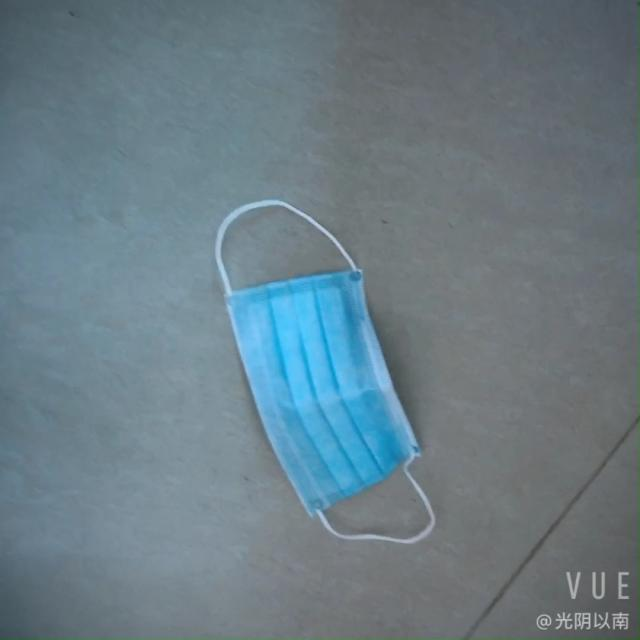non-organic waste: (210, 261, 438, 528)
